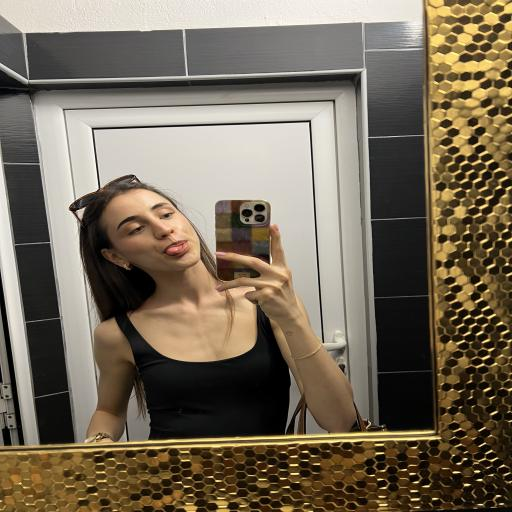masa: (101, 192, 203, 272)
